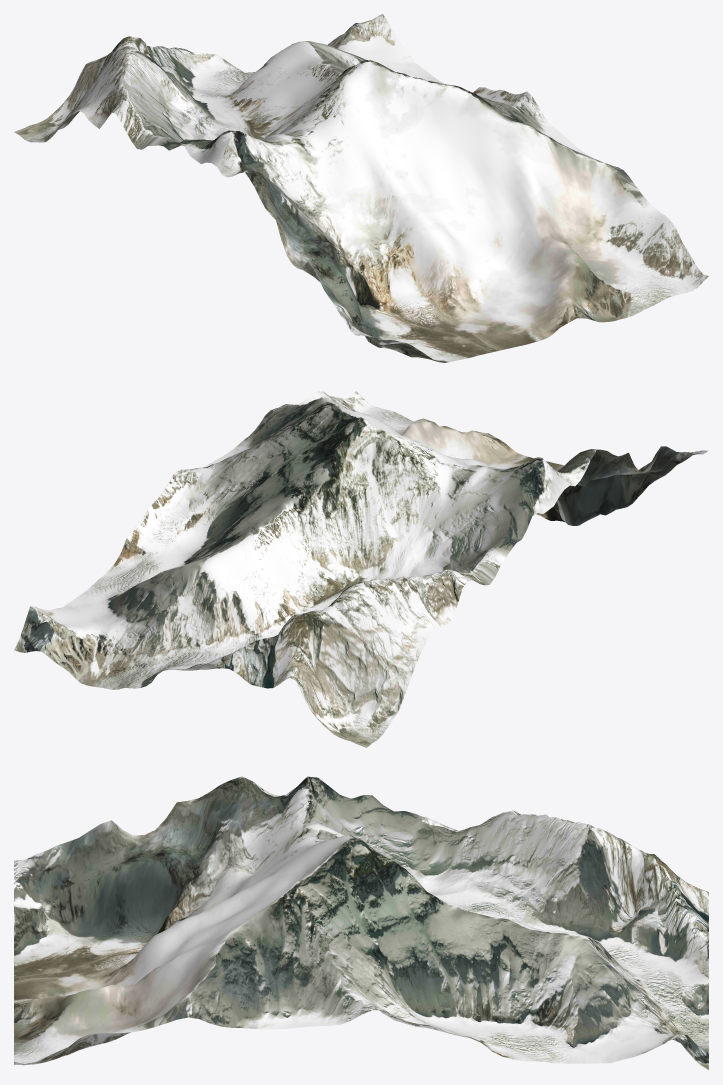
The model's file is everest.glb.
3 views of the same model, one above another, from view 1: azimuth 30°, elevation 25°; view 2: azimuth 150°, elevation 25°; view 3: azimuth 270°, elevation 25° (orthographic).
Visible parts, largest first — view 1: EXPORT_BING_SAT_WM; view 2: EXPORT_BING_SAT_WM; view 3: EXPORT_BING_SAT_WM.
Part boxes in pixels (x1,y1,x2,y2): EXPORT_BING_SAT_WM: [14, 14, 708, 362]; EXPORT_BING_SAT_WM: [14, 391, 708, 747]; EXPORT_BING_SAT_WM: [14, 776, 708, 1070].
Bounding box in the file's own units: 2.3 × 1.01 × 3.87.
Materials: 1 (1 with a texture image).
